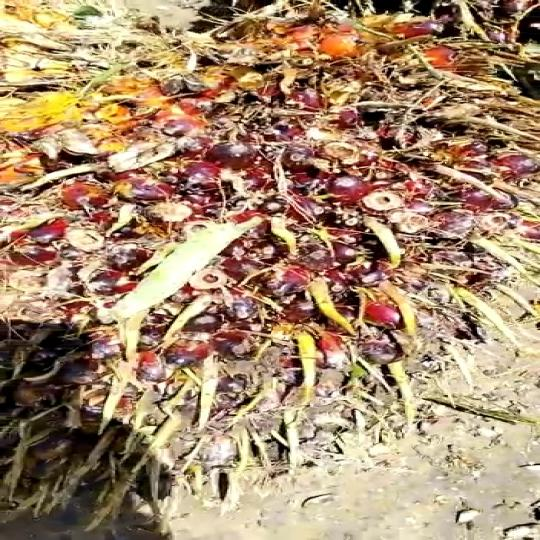masak: (0, 0, 540, 466)
